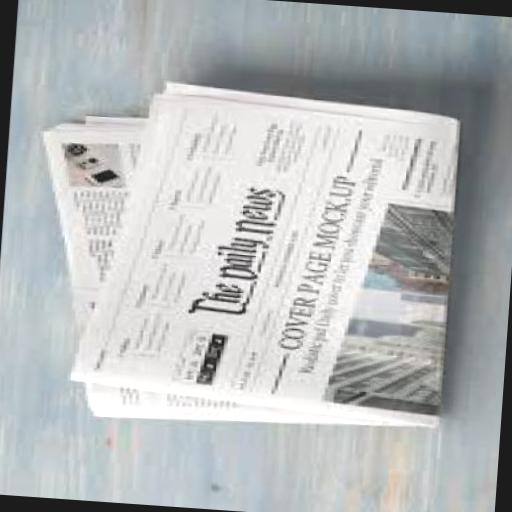paper: (16, 72, 458, 442)
